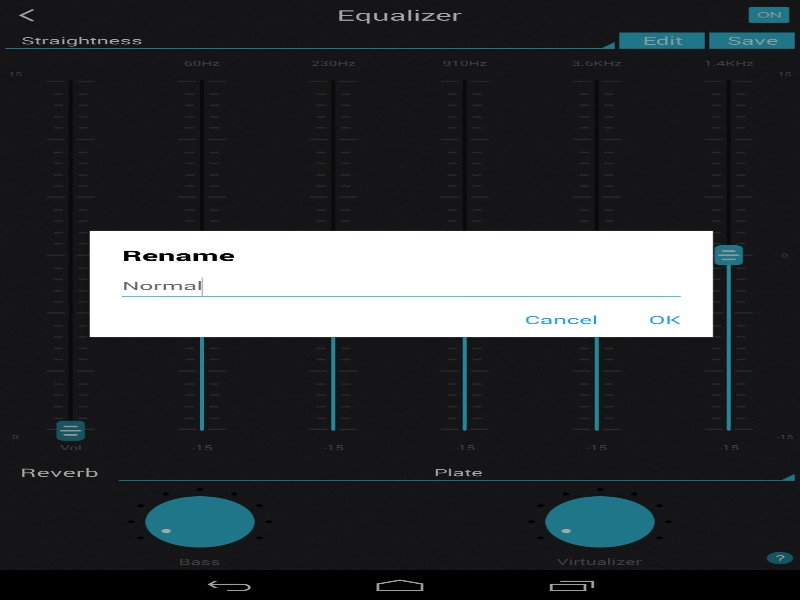Input: (122, 277, 680, 297)
